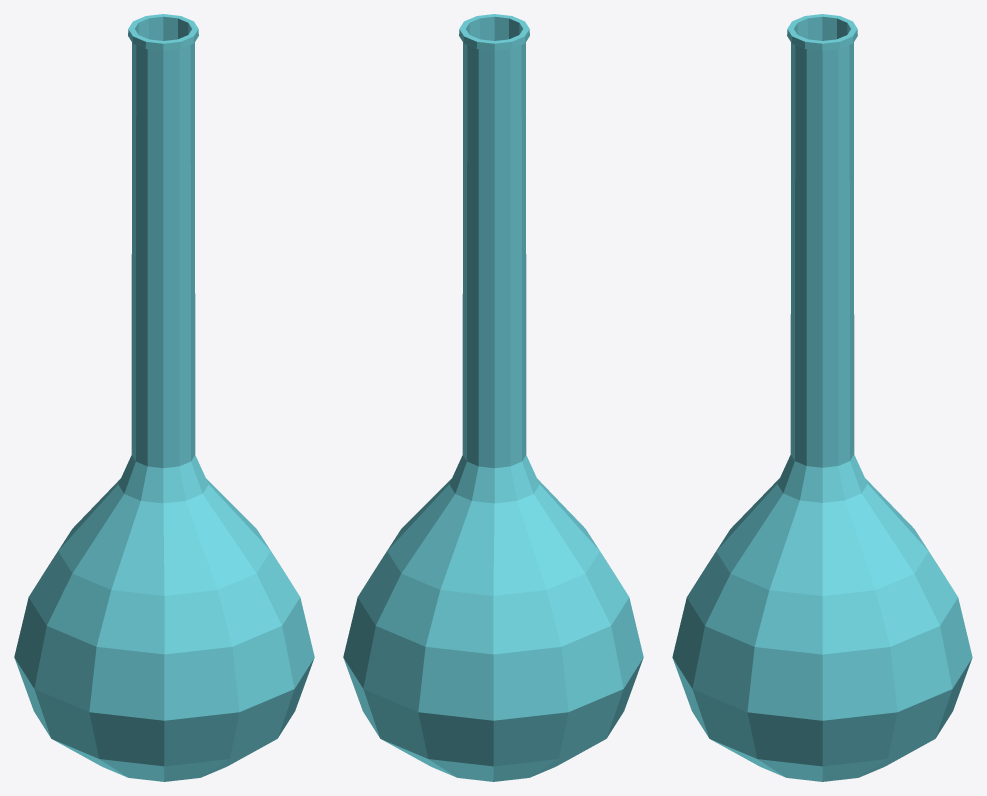
Rendered from SM_Flask_01_B.gltf.
The picture shows the model from 3 angles, left to right: view 1: azimuth 30°, elevation 25°; view 2: azimuth 150°, elevation 25°; view 3: azimuth 270°, elevation 25°; orthographic projection.
Visible parts, largest first — view 1: SM_Flask_01_B; view 2: SM_Flask_01_B; view 3: SM_Flask_01_B.
Boxes of the visible parts, box(x1,y1,x2,y2) form: SM_Flask_01_B: box(14, 14, 314, 781); SM_Flask_01_B: box(343, 14, 643, 781); SM_Flask_01_B: box(672, 14, 972, 781).
Size of the model in its own units: 0.1306 by 0.3466 by 0.1306.
